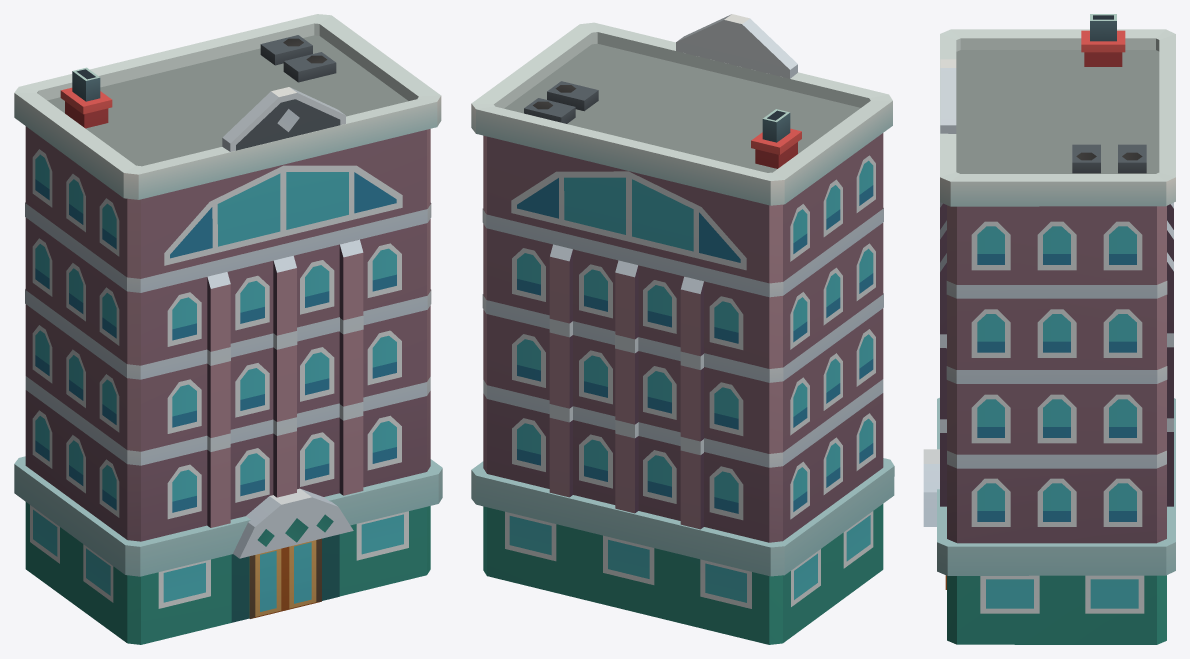
Rendered from Building_cartoon_14.fbx.
The picture shows the model from 3 angles, left to right: view 1: azimuth 30°, elevation 25°; view 2: azimuth 150°, elevation 25°; view 3: azimuth 270°, elevation 25°; orthographic projection.
Parts seen in each view (by area): view 1: Building_cartoon_14; view 2: Building_cartoon_14; view 3: Building_cartoon_14.
Boxes of the visible parts, x1,y1,x2,y2 form: Building_cartoon_14: (14, 14, 442, 644); Building_cartoon_14: (471, 14, 894, 644); Building_cartoon_14: (923, 14, 1175, 644).
Size of the model in its own units: 1189 by 1852 by 833.
